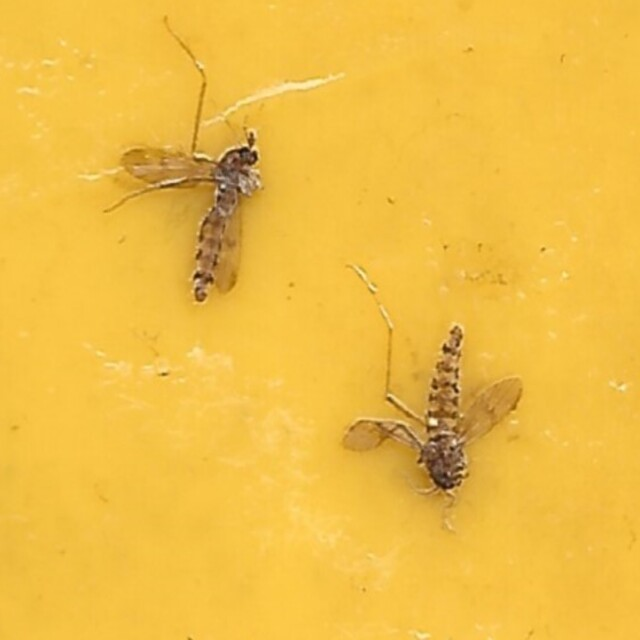Nematocera: (341, 330, 525, 500), (115, 140, 258, 314)
